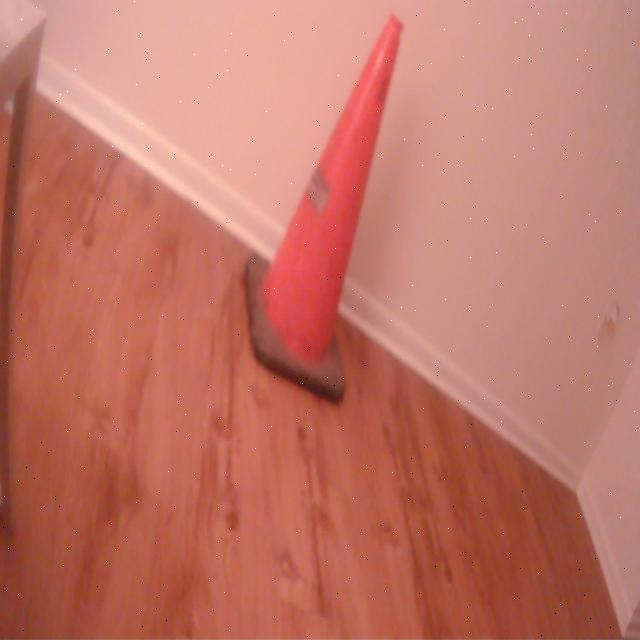traffic cone: (242, 10, 407, 410)
